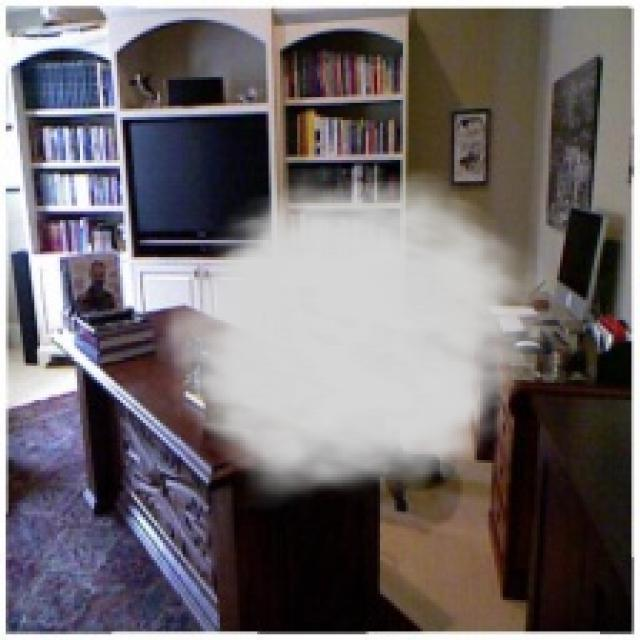Smoke: (143, 168, 566, 512)
